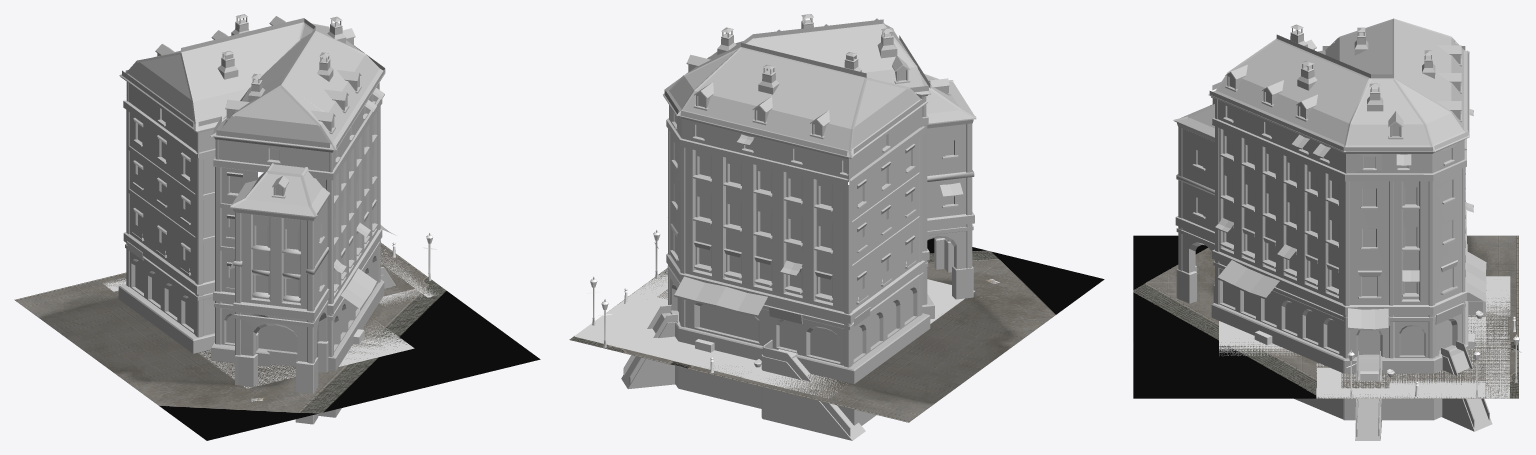
File: narrow.gltf
3 renders of one model, left to right at view 1: azimuth 30°, elevation 25°; view 2: azimuth 150°, elevation 25°; view 3: azimuth 270°, elevation 25°, orthographic.
Visible parts, largest first — view 1: _lod0, decal, BuildBlocker.001, BuildBlocker, FeedbackBlocker1.001; view 2: _lod0, decal, BuildBlocker, BuildBlocker.002, FeedbackBlocker1.003, FeedbackBlocker1.001, FeedbackBlocker1.004, FeedbackBlocker1.002; view 3: _lod0, decal, BuildBlocker.002, FeedbackBlocker1.001, BuildBlocker.001, BuildBlocker, FeedbackBlocker1.003, FeedbackBlocker1.002, FeedbackBlocker1.005, FeedbackBlocker1.004.
Part boxes in pixels (bbox=[...]): _lod0: bbox=[118, 14, 395, 424]; decal: bbox=[14, 243, 540, 440]; BuildBlocker.001: bbox=[339, 324, 414, 366]; BuildBlocker: bbox=[111, 283, 295, 388]; FeedbackBlocker1.001: bbox=[380, 249, 438, 297]; _lod0: bbox=[621, 14, 976, 440]; decal: bbox=[569, 238, 1104, 422]; BuildBlocker: bbox=[743, 279, 974, 394]; BuildBlocker.002: bbox=[575, 269, 756, 376]; FeedbackBlocker1.003: bbox=[575, 327, 836, 398]; FeedbackBlocker1.001: bbox=[587, 268, 667, 332]; FeedbackBlocker1.004: bbox=[629, 329, 761, 368]; FeedbackBlocker1.002: bbox=[608, 297, 667, 335]; _lod0: bbox=[1173, 18, 1492, 440]; decal: bbox=[1133, 235, 1518, 398]; BuildBlocker.002: bbox=[1316, 317, 1507, 398]; FeedbackBlocker1.001: bbox=[1316, 388, 1485, 398]; BuildBlocker.001: bbox=[1219, 321, 1299, 355]; BuildBlocker: bbox=[1468, 276, 1510, 316]; FeedbackBlocker1.003: bbox=[1486, 326, 1509, 398]; FeedbackBlocker1.002: bbox=[1389, 379, 1485, 388]; FeedbackBlocker1.005: bbox=[1317, 368, 1341, 388]; FeedbackBlocker1.004: bbox=[1468, 317, 1485, 361].
Size of what is drawn, in the model's own units: 4.03 by 3.68 by 4.03.
